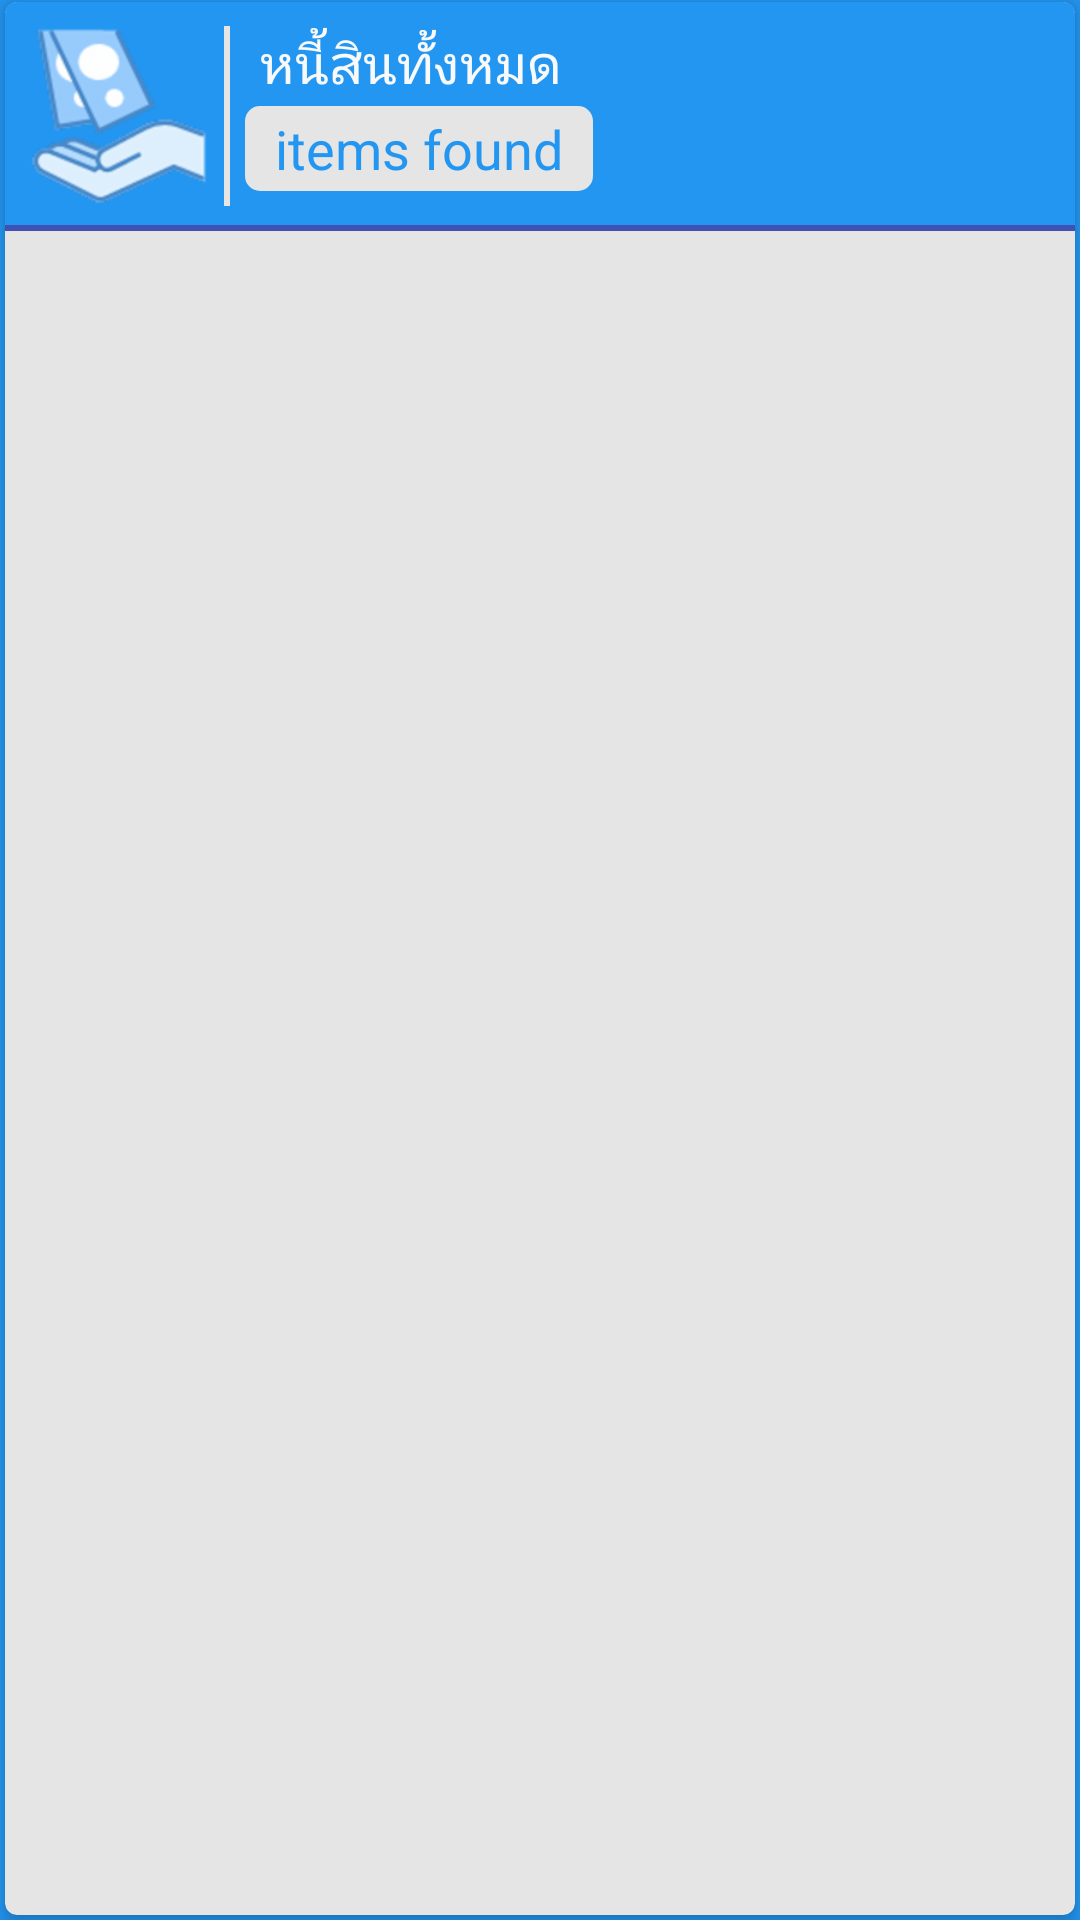

Screen size 1080*1920. Icon name, then its box in pixels as (x1,y1,x2,y2):
refund: (32,29,206,203)
